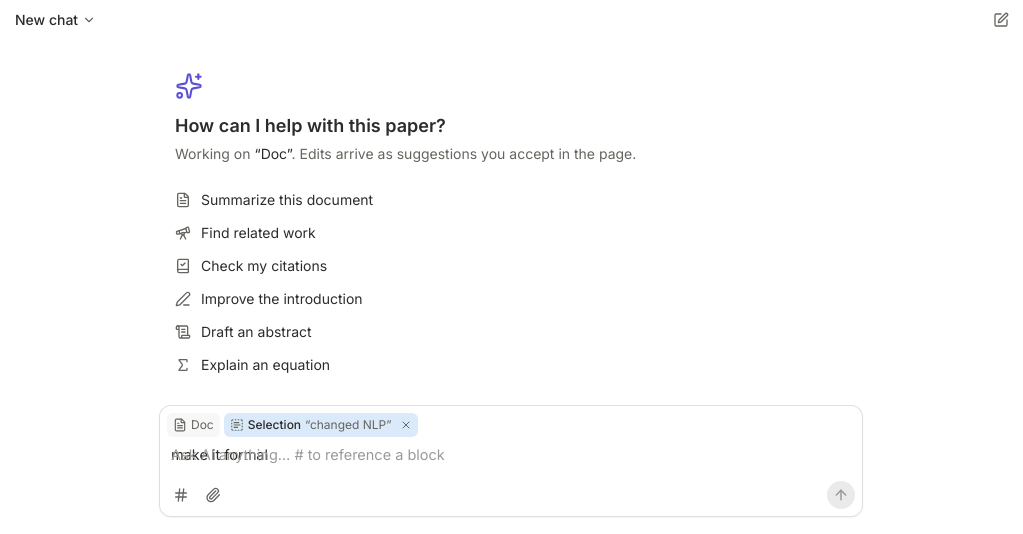
where the author is working › keeps the attached selection marked in the page until it is sent
The width and height of the screenshot is (1023, 534).
Clear the field at (220, 454), box [171, 446, 268, 463]
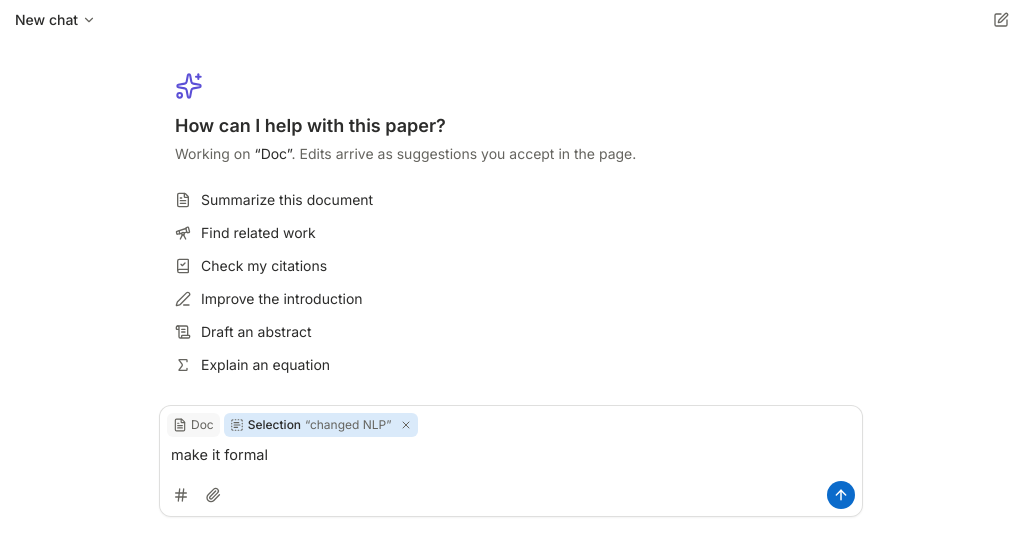
Click the button named "send message" at (841, 495), box [827, 481, 855, 509]
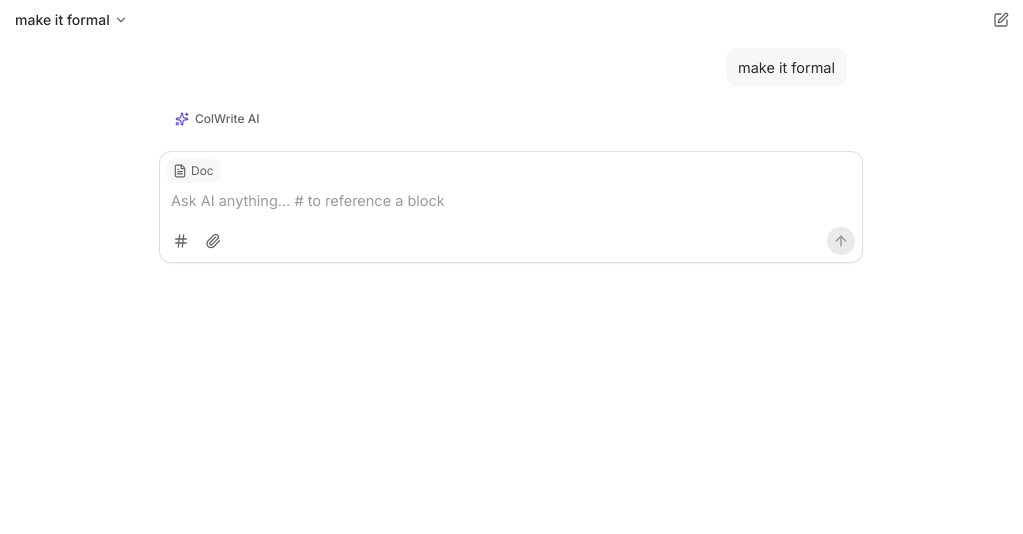
Check: the text "“changed NLP”" is gone
